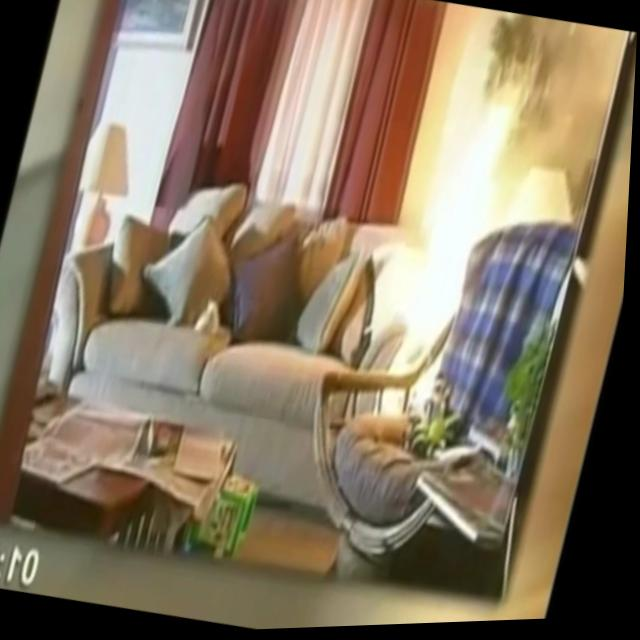fire: (390, 58, 544, 407)
